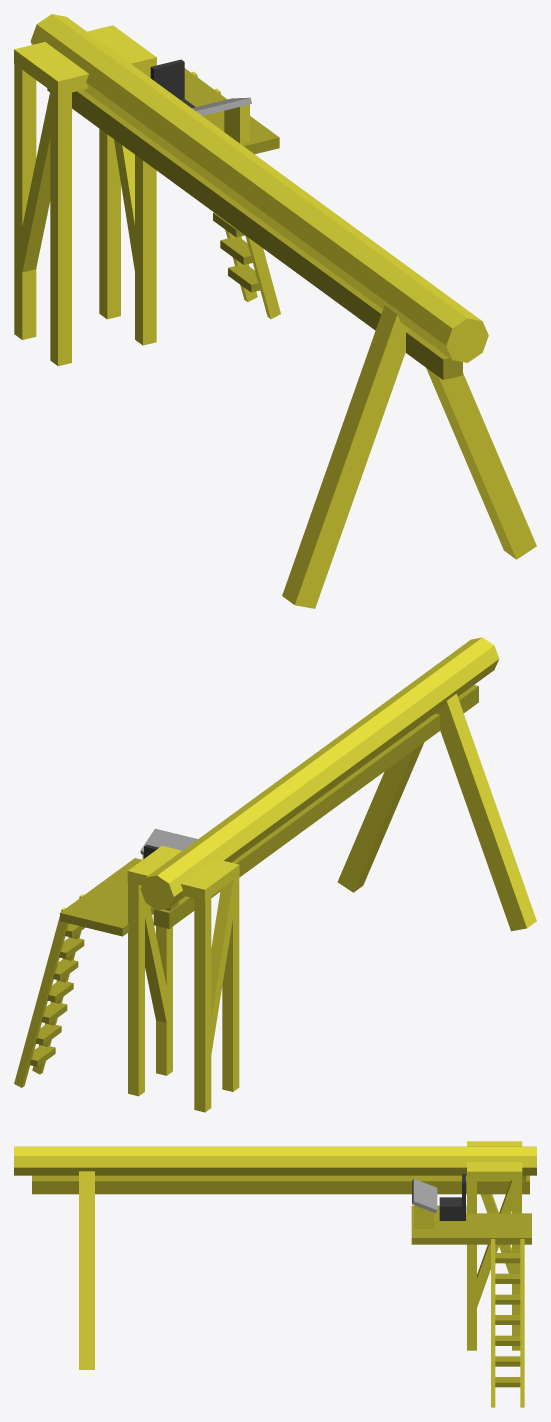
Rendered from Lesopilnbly kran_painted.fbx.
3 renders of one model, top to bottom at view 1: azimuth 30°, elevation 25°; view 2: azimuth 150°, elevation 25°; view 3: azimuth 270°, elevation 25°, orthographic. The views are drawn at different scales.
Parts seen in each view (by area): view 1: Cylinder, Cube.001, Cube.009, Cube, Cube.003, Cube.004, Cube.002, Cube.005, Cube.006, Cube.008, Cube.012, Cube.007 (+3 smaller); view 2: Cylinder, Cube.001, Cube.009, Cube.004, Cube, Cube.005, Cube.003, Cube.012, Cube.006, Cube.008, Cube.013, Cube.002 (+2 smaller); view 3: Cylinder, Cube.009, Cube.012, Cube, Cube.006, Cube.002, Cube.007, Cube.005, Cube.013, Cube.014, Cube.022, Cube.025 (+2 smaller).
Boxes of the visible parts, x1,y1,x2,y2 form: Cylinder: [30, 14, 488, 362]; Cube.001: [282, 305, 411, 608]; Cube.009: [47, 88, 462, 379]; Cube: [426, 368, 536, 559]; Cube.003: [50, 90, 71, 366]; Cube.004: [14, 64, 36, 339]; Cube.002: [135, 73, 156, 345]; Cube.005: [99, 128, 120, 319]; Cube.006: [14, 25, 156, 95]; Cube.008: [15, 92, 56, 272]; Cube.012: [184, 68, 279, 154]; Cube.007: [114, 139, 142, 274]; Cylinder: [140, 637, 499, 910]; Cube.001: [435, 694, 536, 931]; Cube.009: [153, 685, 478, 928]; Cube.004: [194, 897, 211, 1112]; Cube: [337, 743, 423, 892]; Cube.005: [128, 882, 144, 1096]; Cube.003: [222, 876, 239, 1091]; Cube.012: [60, 858, 154, 936]; Cube.006: [127, 846, 239, 900]; Cube.008: [211, 879, 238, 1053]; Cube.013: [14, 907, 68, 1087]; Cube.002: [156, 926, 172, 1075]; Cylinder: [14, 1146, 536, 1175]; Cube.009: [32, 1175, 529, 1194]; Cube.012: [411, 1205, 531, 1244]; Cube: [79, 1171, 94, 1369]; Cube.006: [467, 1141, 522, 1180]; Cube.002: [467, 1180, 476, 1350]; Cube.007: [467, 1180, 521, 1309]; Cube.005: [512, 1180, 521, 1350]; Cube.013: [520, 1239, 524, 1407]; Cube.014: [491, 1239, 495, 1407]; Cube.022: [439, 1174, 465, 1220]; Cube.025: [412, 1178, 437, 1213].
Size of the model in its own units: 11.2 by 11.02 by 25.7.
